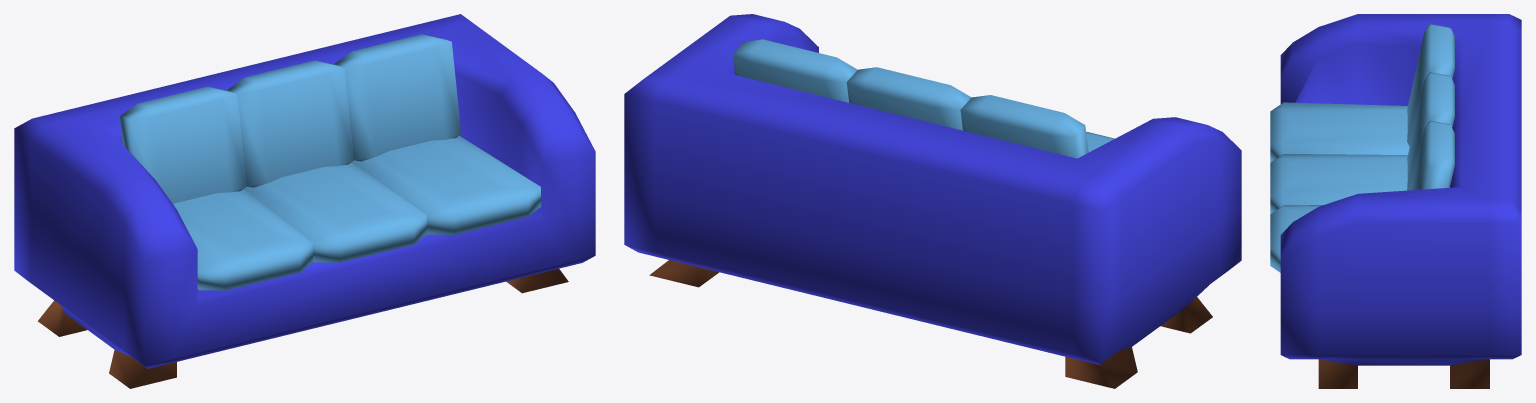
File: sofa.fbx
The picture shows the model from 3 angles, left to right: view 1: azimuth 30°, elevation 25°; view 2: azimuth 150°, elevation 25°; view 3: azimuth 270°, elevation 25°; orthographic projection. The views are drawn at different scales.
Visible parts, largest first — view 1: Cube, Cube.001; view 2: Cube, Cube.001; view 3: Cube, Cube.001.
Part boxes in pixels (x1=…): Cube: x1=14, y1=14, x2=595, y2=388; Cube.001: x1=119, y1=34, x2=540, y2=290; Cube: x1=624, y1=14, x2=1241, y2=388; Cube.001: x1=733, y1=39, x2=1114, y2=158; Cube: x1=1280, y1=14, x2=1521, y2=388; Cube.001: x1=1270, y1=24, x2=1454, y2=272.
Bounding box in the file's own units: 1822 × 839 × 949.
